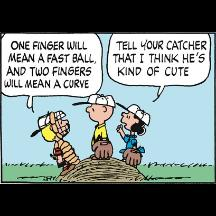charlie: (84, 94, 116, 160)
